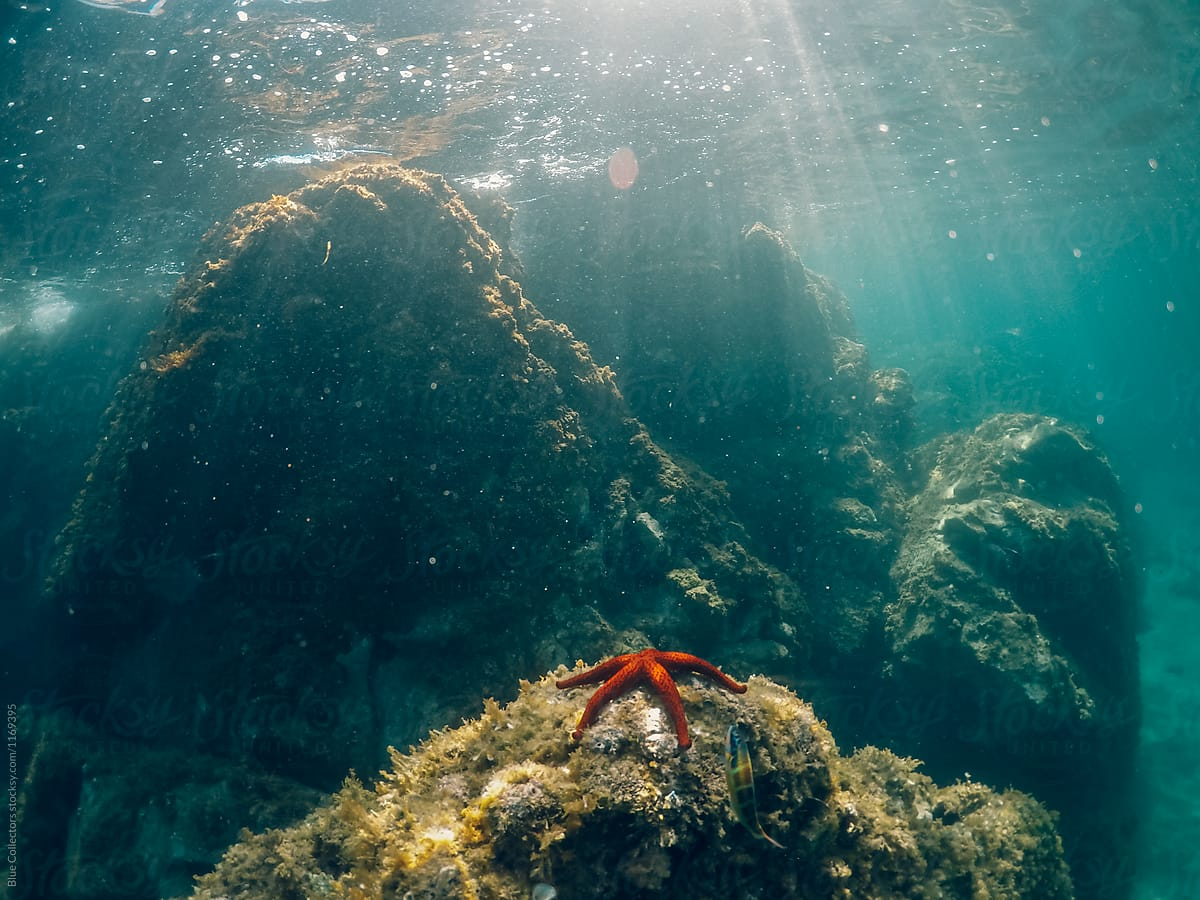fish: (716, 718, 791, 862)
starfish: (551, 621, 750, 748)
